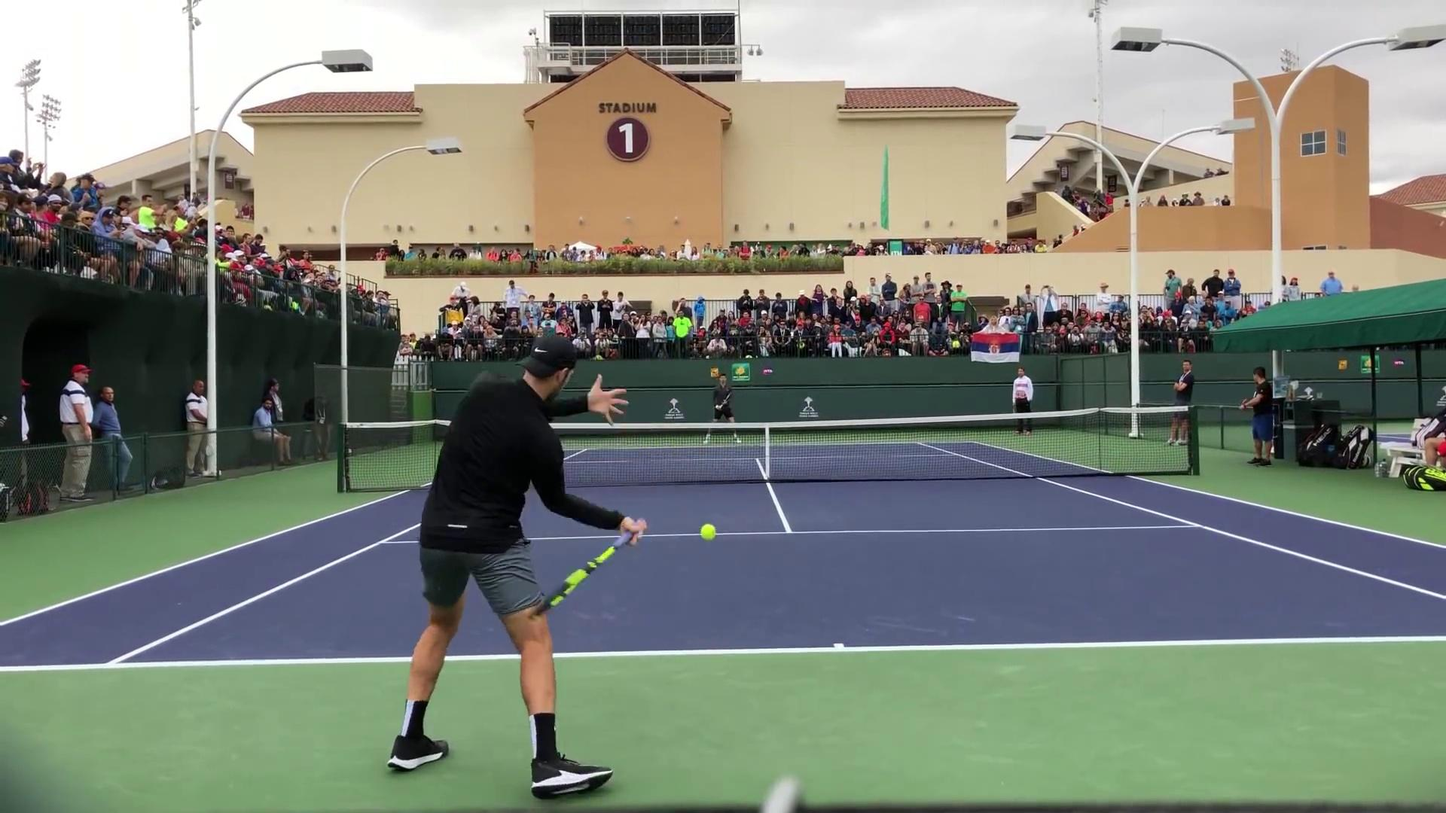ball: (697, 524, 718, 541), (601, 408, 604, 413)
